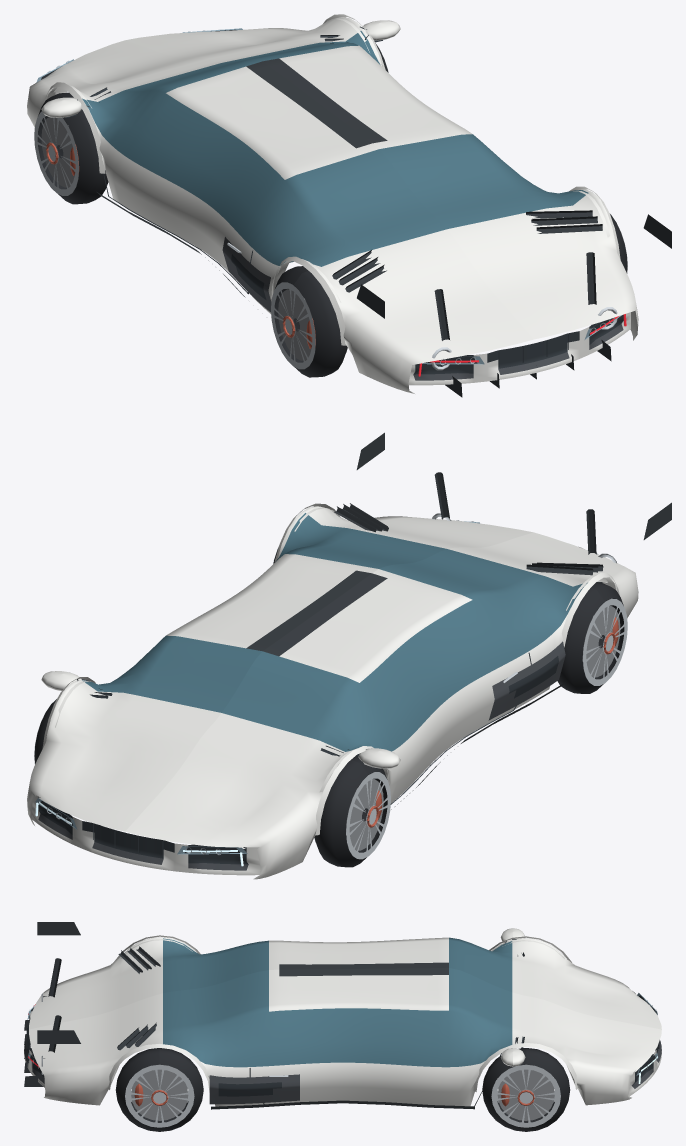
File: aether_one_low.glb
3 views of the same model, one above another, from view 1: azimuth 30°, elevation 25°; view 2: azimuth 150°, elevation 25°; view 3: azimuth 270°, elevation 25° (orthographic). The views are drawn at different scales.
Visible parts, largest first — view 1: Body, Wheel_2, Wheel_0; view 2: Body, Wheel_0, Wheel_2; view 3: Body, Wheel_3, Wheel_1.
Part boxes in pixels (box(x1,y1,x2,y2)): Body: box(27, 14, 671, 397); Wheel_2: box(271, 266, 347, 377); Wheel_0: box(34, 92, 108, 204); Body: box(27, 432, 671, 879); Wheel_0: box(314, 755, 390, 867); Wheel_2: box(557, 582, 627, 693); Body: box(24, 922, 661, 1109); Wheel_3: box(115, 1048, 203, 1131); Wheel_1: box(482, 1048, 570, 1131).
Size of the model in its own units: 2.68 by 1.01 by 5.53.
